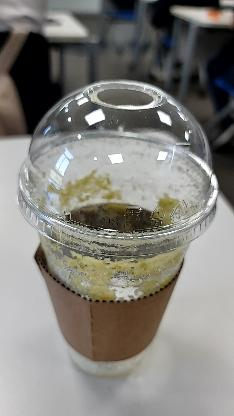Plastic Cup: (17, 80, 221, 378), (15, 81, 219, 259)
